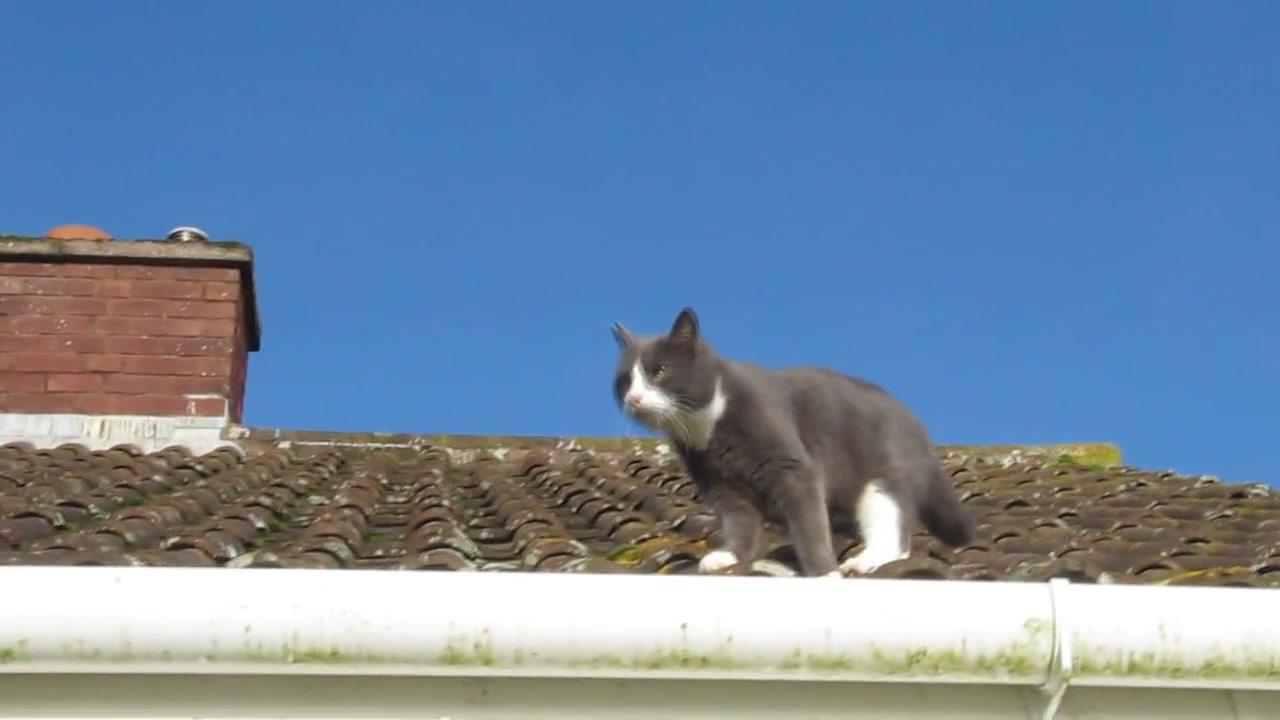cat: (607, 308, 981, 581)
